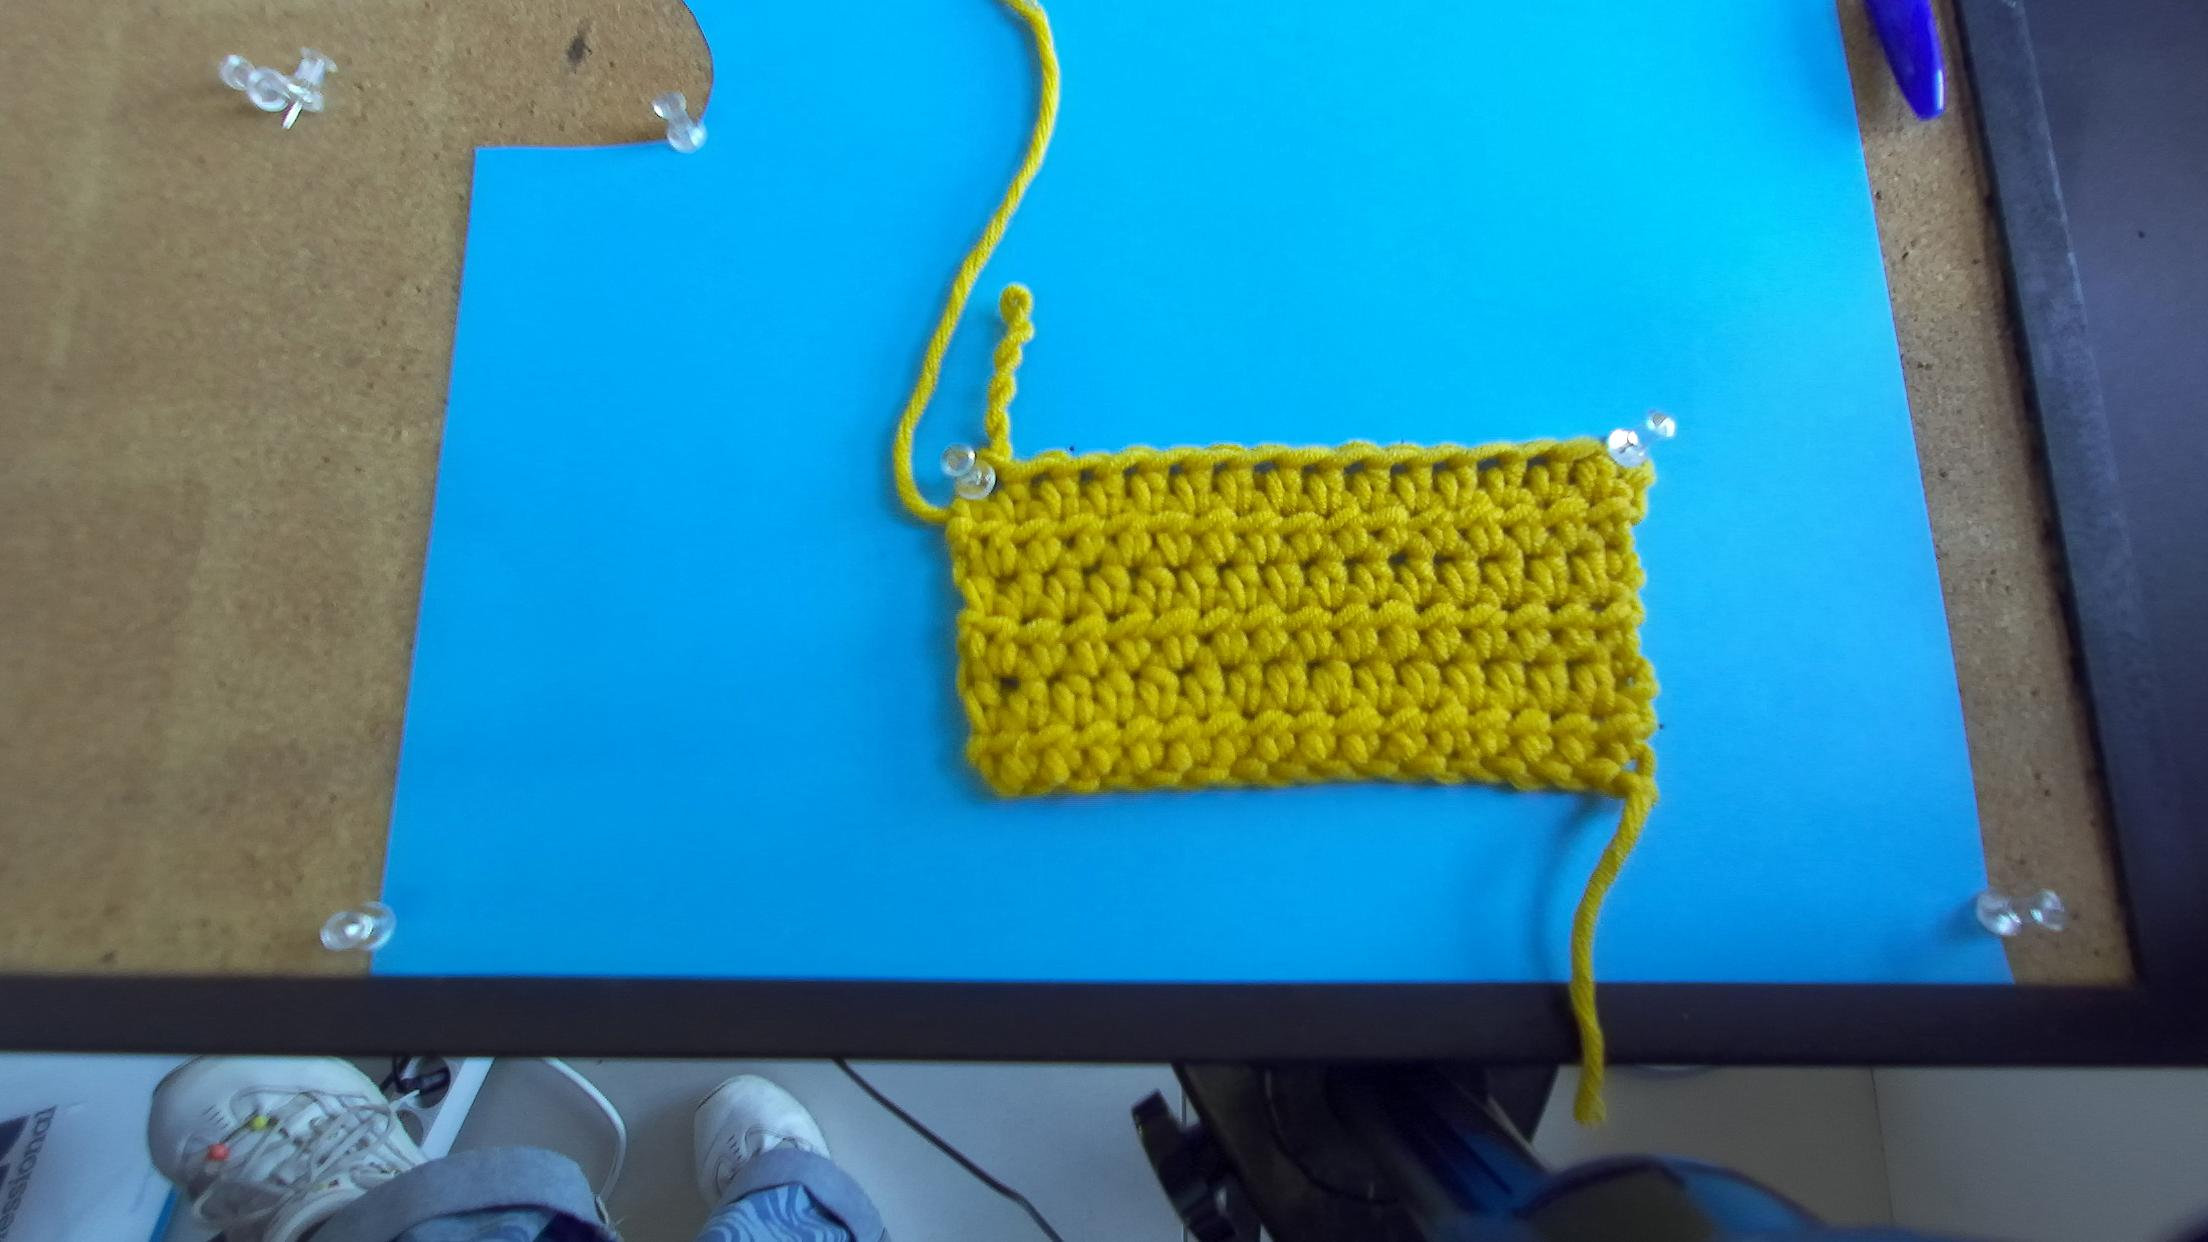hole: (1078, 466, 1101, 488), (1027, 470, 1054, 488), (1298, 459, 1321, 481), (1253, 459, 1280, 476), (1567, 456, 1588, 478), (1430, 456, 1454, 475), (1526, 453, 1550, 472), (1477, 455, 1501, 472), (1344, 459, 1365, 478), (1389, 461, 1410, 479), (1121, 463, 1140, 481), (1213, 459, 1231, 476), (1169, 463, 1186, 479), (993, 479, 1004, 494)
swatch: (937, 429, 1659, 831)
